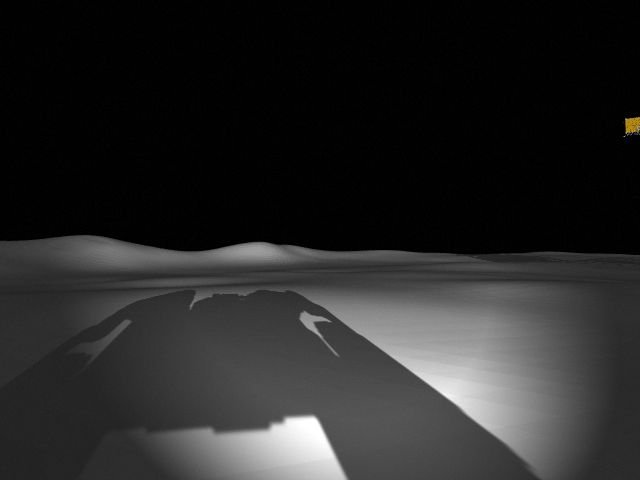cubesat: (624, 111, 640, 139)
